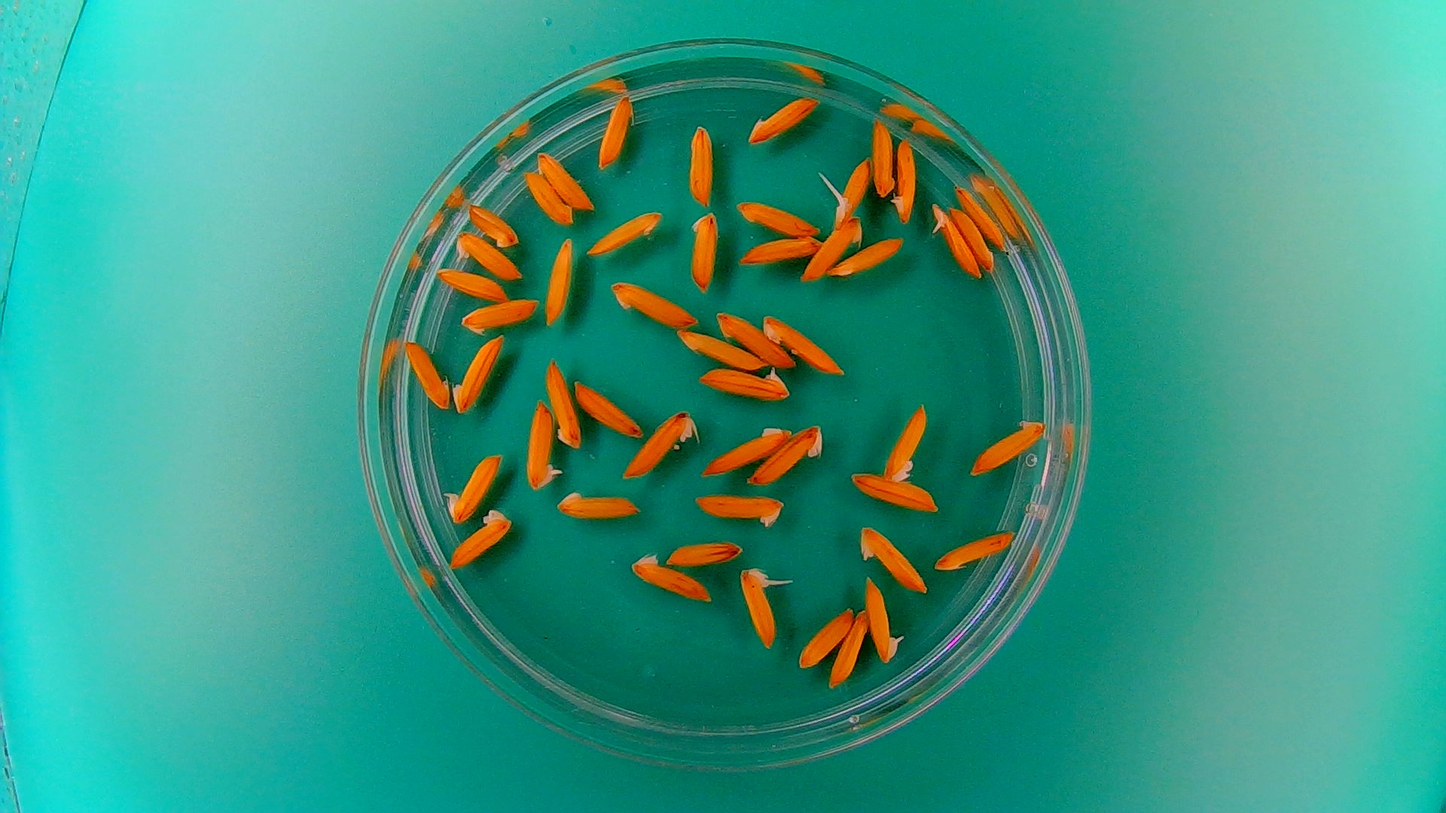no: (619, 405, 697, 482), (761, 309, 849, 377), (694, 420, 791, 479), (857, 522, 930, 593), (623, 548, 715, 604), (745, 422, 824, 485), (714, 309, 795, 369), (968, 415, 1047, 476), (609, 277, 699, 329), (450, 333, 507, 414), (447, 507, 514, 570), (575, 379, 643, 440), (847, 470, 941, 514), (674, 327, 764, 372), (881, 400, 929, 484), (801, 216, 862, 282), (744, 93, 820, 145), (536, 148, 595, 212), (586, 208, 664, 256), (932, 528, 1017, 572), (797, 604, 855, 668), (543, 356, 582, 450), (404, 336, 452, 411), (828, 607, 872, 687), (459, 295, 542, 337), (734, 198, 822, 237), (827, 236, 905, 279), (555, 486, 643, 522), (521, 167, 574, 226), (953, 187, 1003, 249), (950, 209, 996, 276), (596, 92, 636, 169), (542, 233, 574, 325), (434, 264, 509, 302), (684, 122, 716, 208), (686, 209, 719, 292), (739, 233, 822, 266), (663, 535, 745, 568), (465, 202, 520, 248), (869, 117, 895, 198)
yes: (444, 449, 505, 524), (737, 562, 786, 651), (929, 200, 981, 279), (689, 489, 786, 531), (694, 363, 790, 403), (524, 397, 563, 494), (864, 573, 905, 664), (453, 228, 523, 281), (890, 132, 920, 224), (834, 157, 872, 221)
